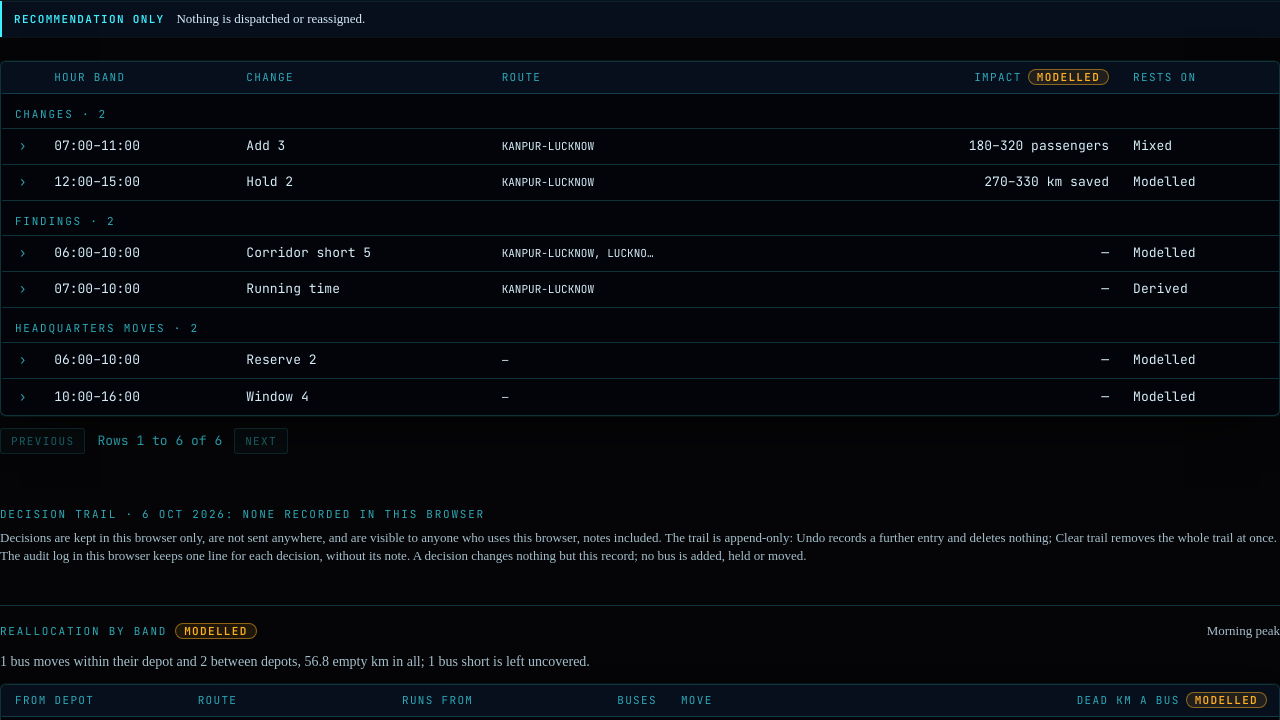
Test: the Service page › records a decision on a depot reserve, which names no route
The image size is (1280, 720).
(page scrolled)
Click the row "› 06:00–10:00 Reserve 2 — — Modelled": (640, 360) 1,342 -> 1279,378
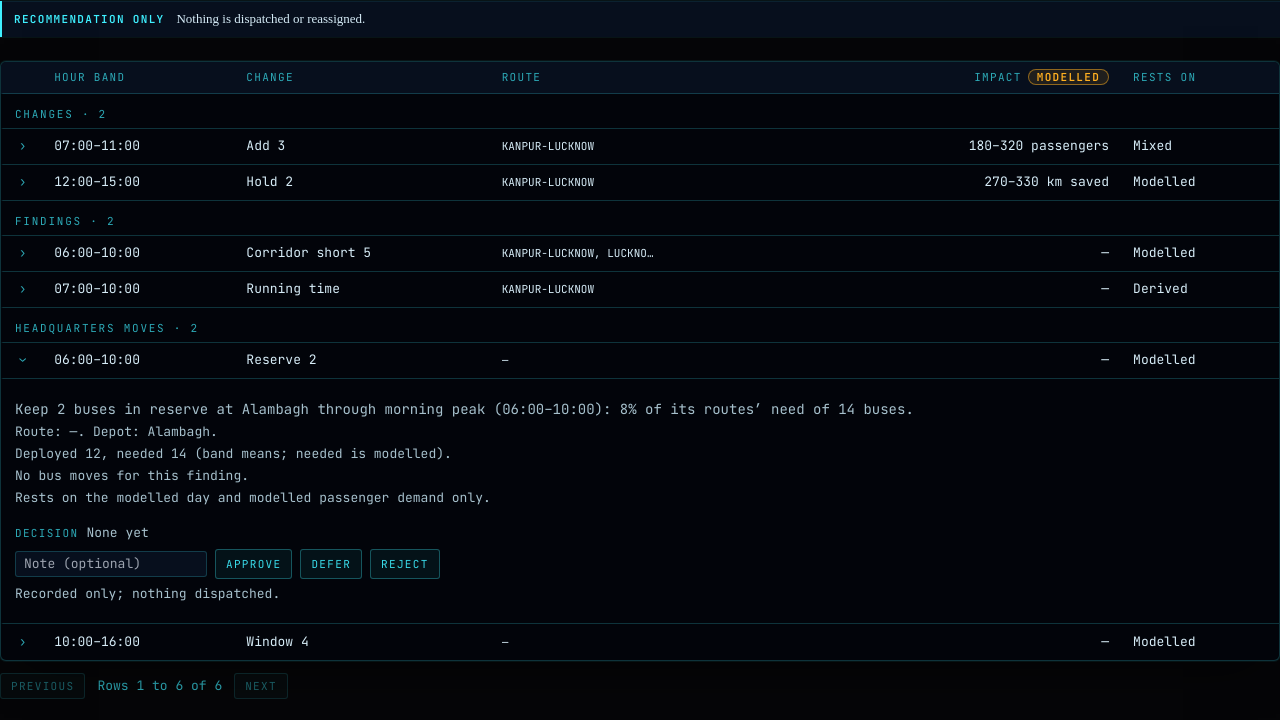
Click the button "Approve": (254, 564) 215,548 -> 292,578
(page scrolled)
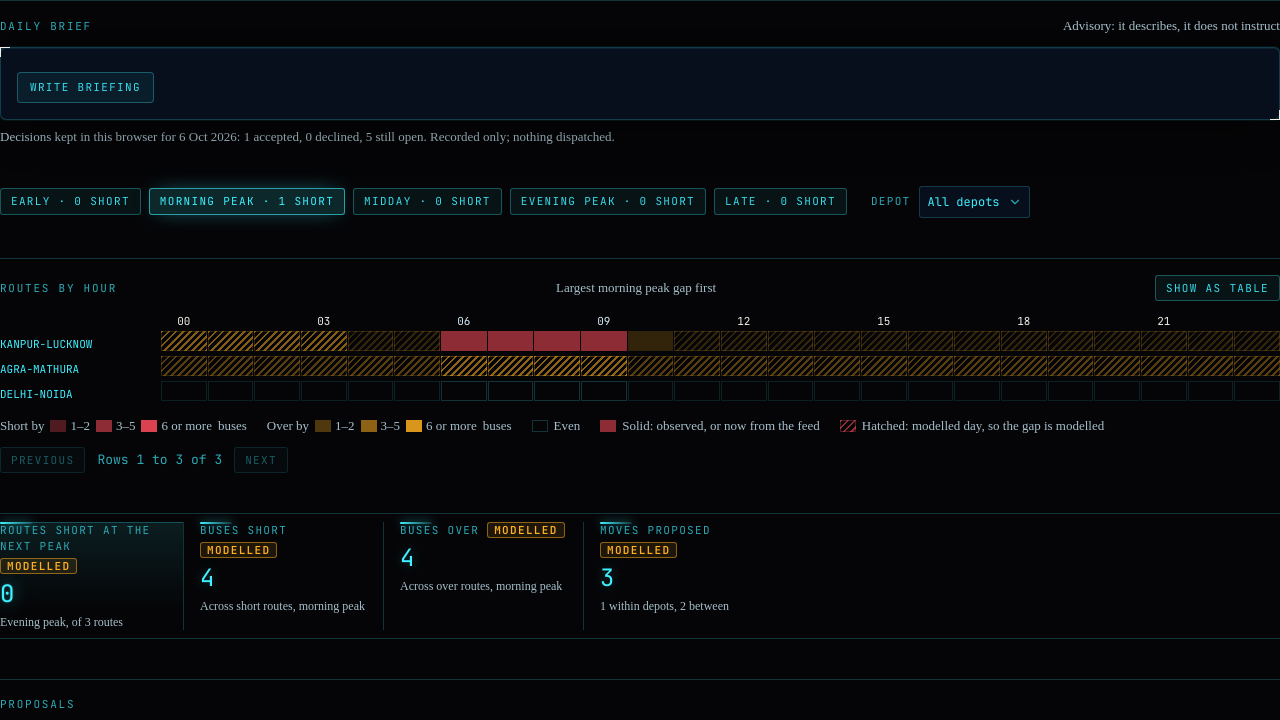
Expected: the text with test id "daily-brief-decisions" shows "1 accepted, 0 declined", 0,128 -> 615,144
